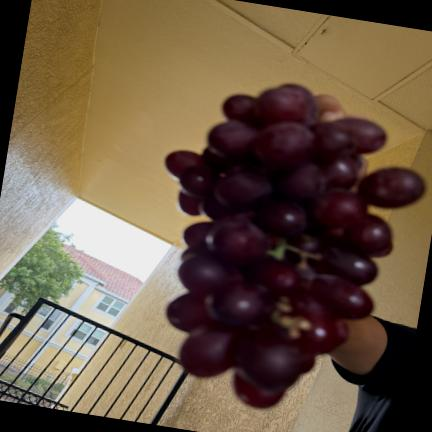grape_cluster: (166, 85, 425, 407)
